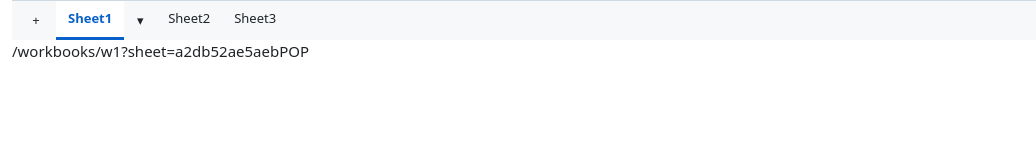
Scenario: SheetTabs › rename › commits on blur
Double-click the tab with test id "sheet-tab" showing "Sheet1" at (90, 20), box [56, 1, 124, 40]
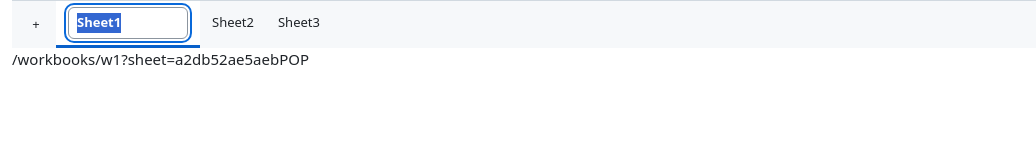
Replace the text in the field named "Sheet name" with "Budget" at (128, 23), box [68, 7, 188, 39]
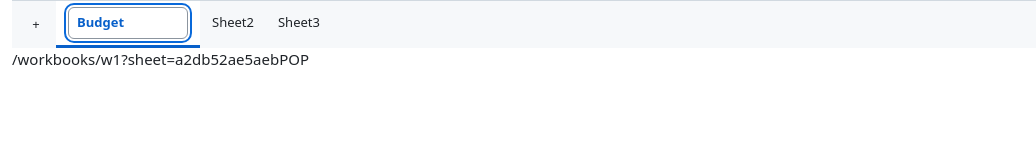
Leave the field named "Sheet name", box [68, 7, 188, 39]
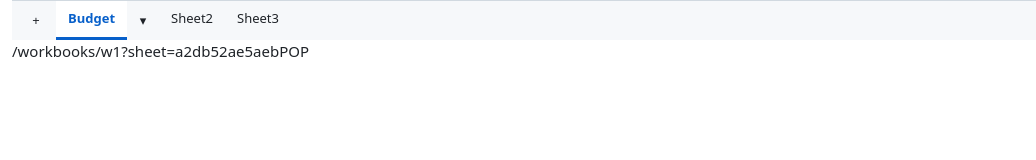
Result: the text "Budget" is shown at [68, 9, 115, 29]
